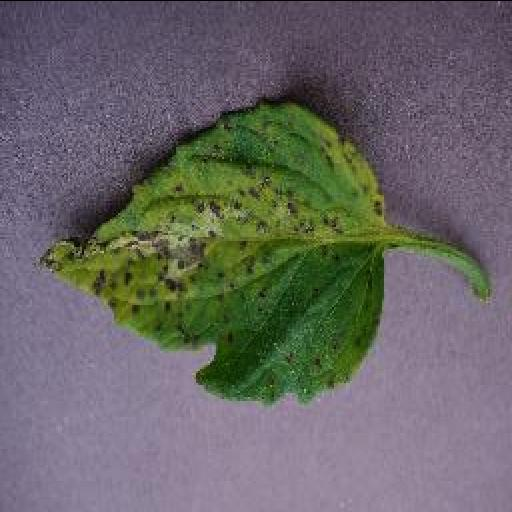disease_tomato: (38, 100, 388, 405)
